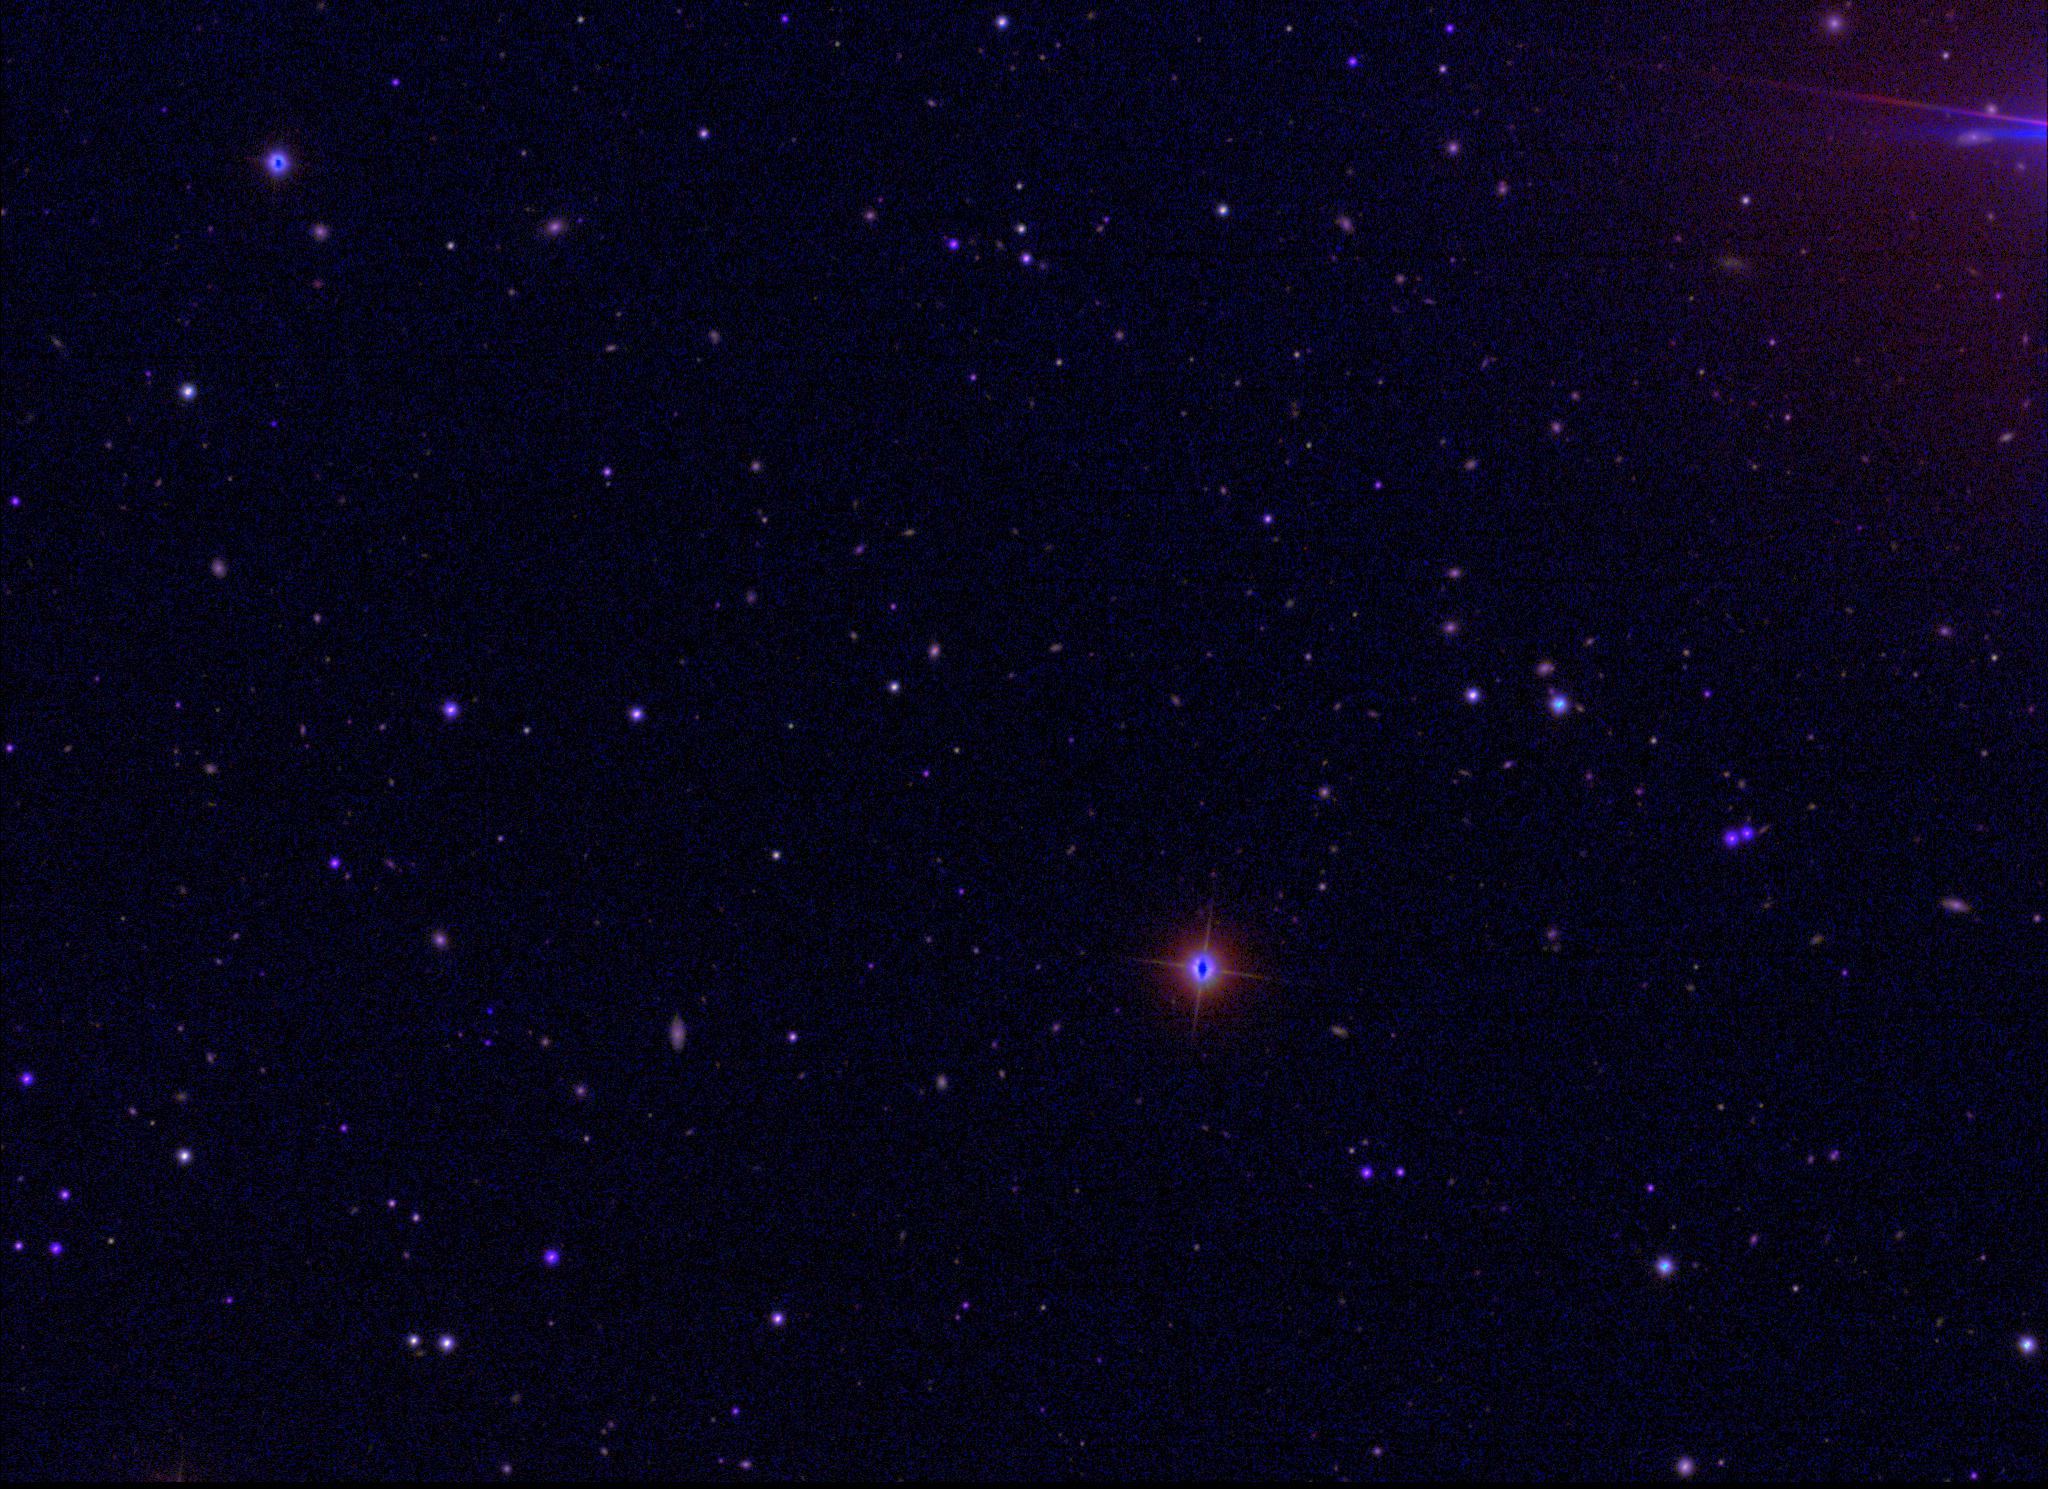L: (483, 1005, 498, 1020)
